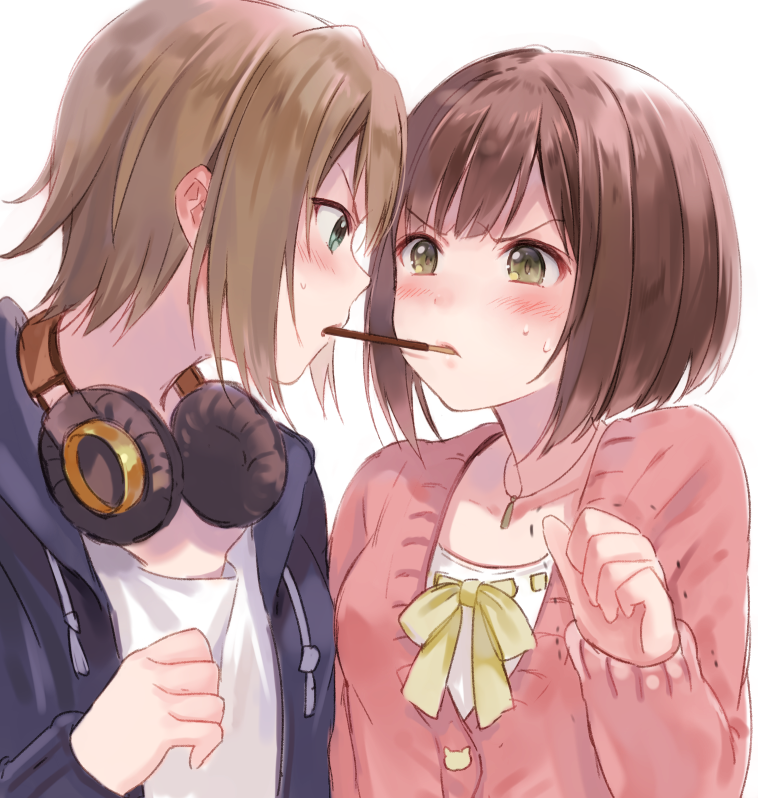纸片人正脸: (375, 46, 725, 424)
